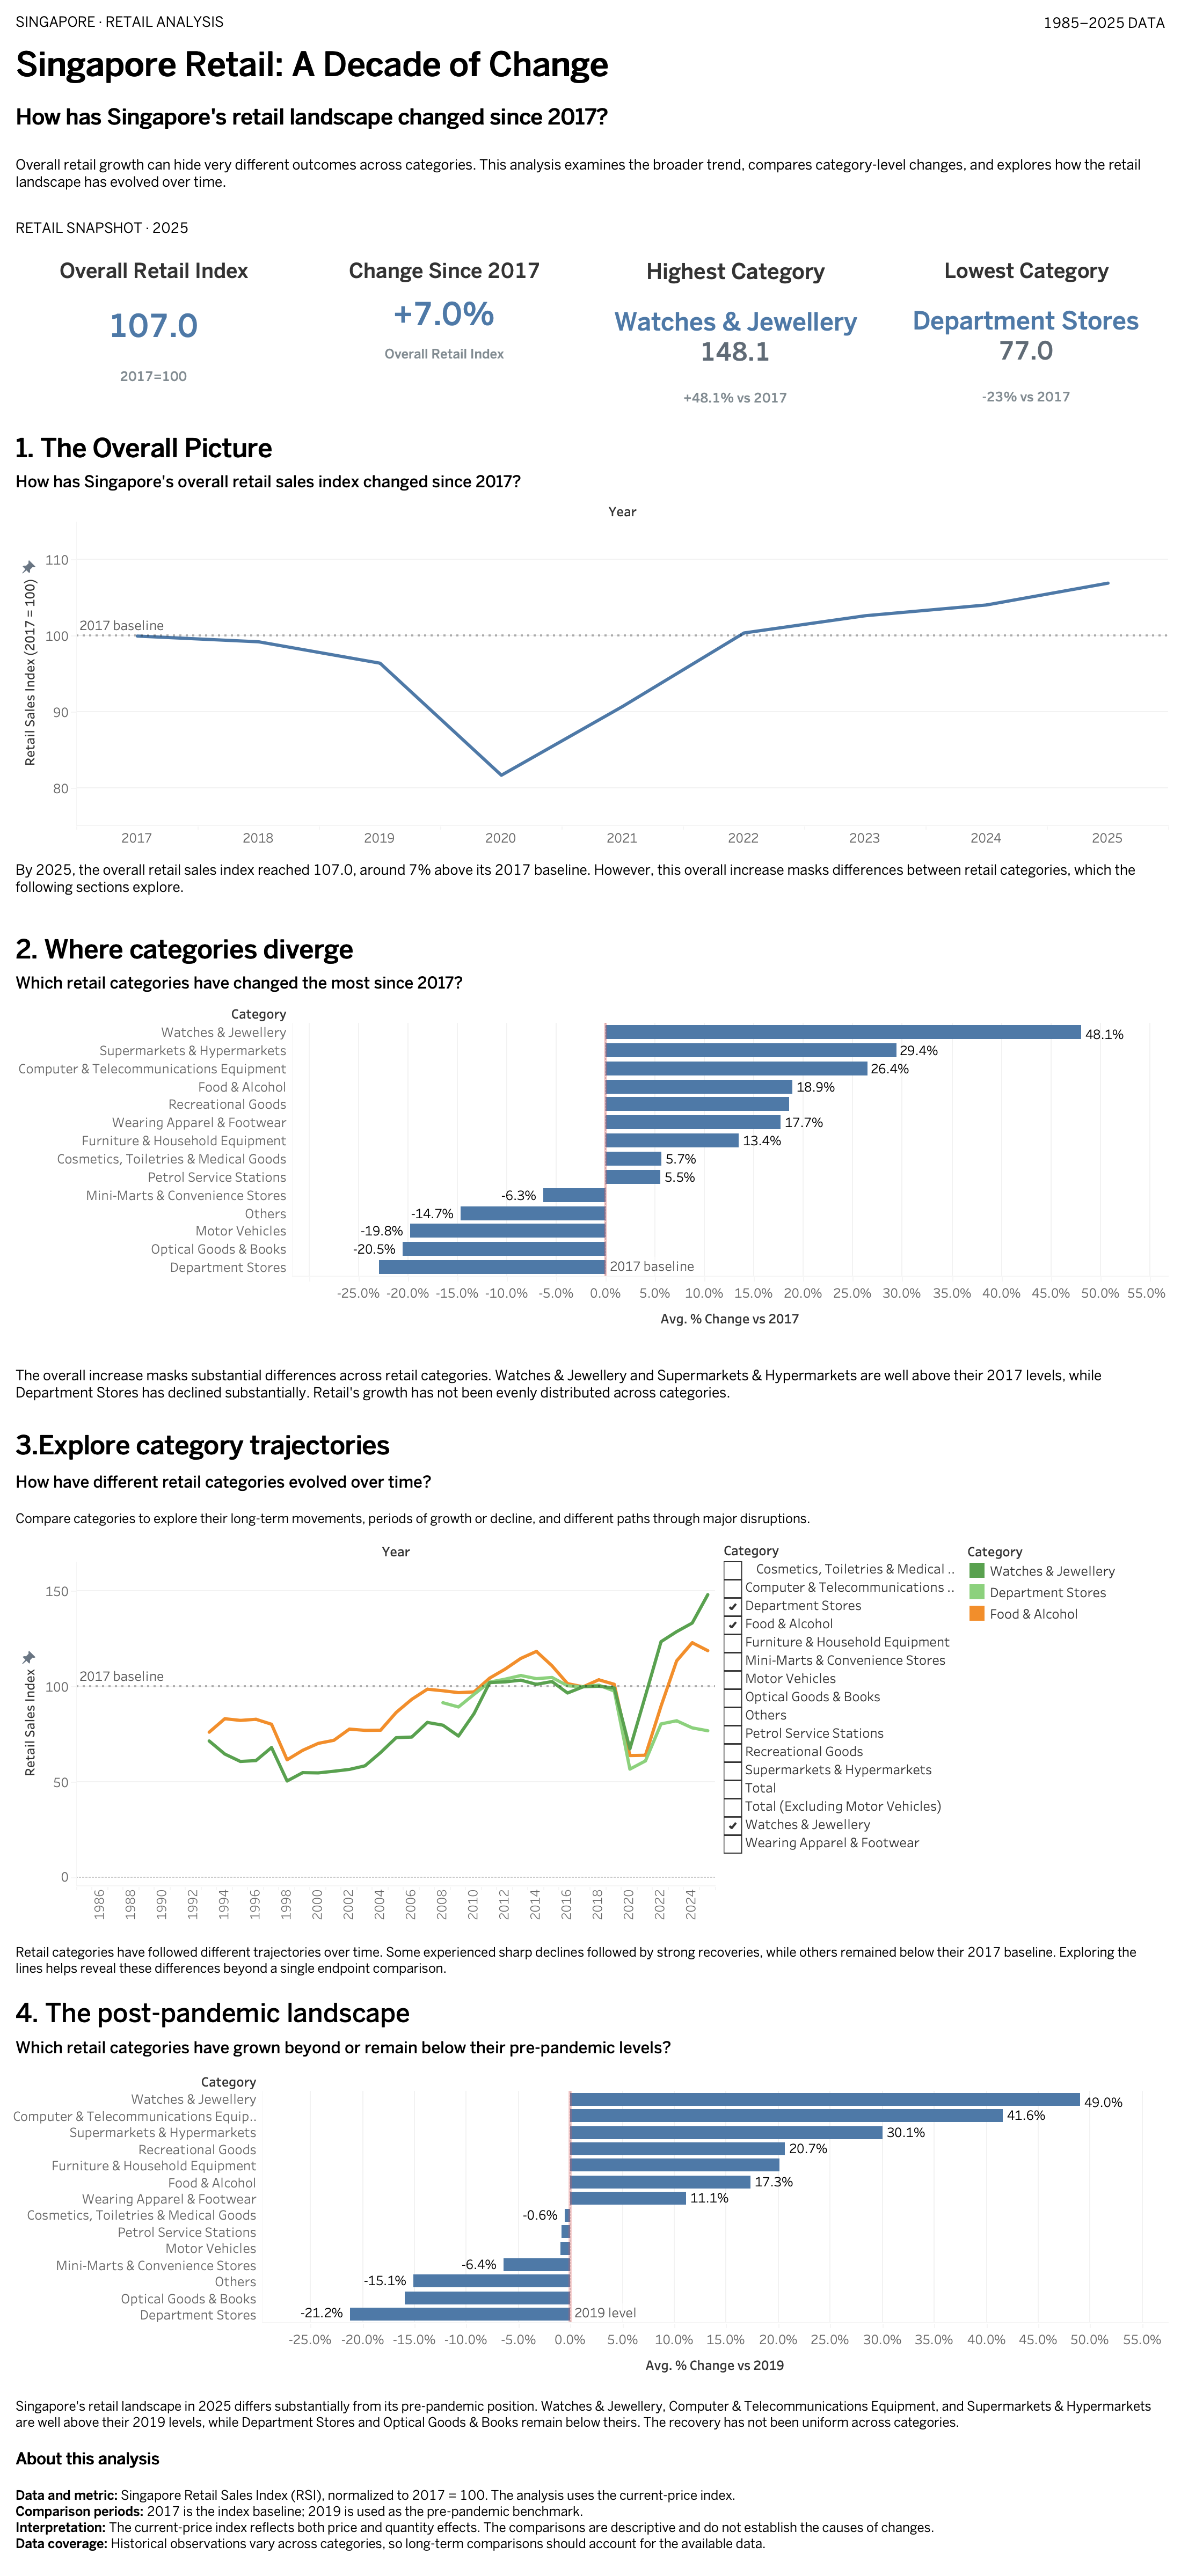

What the dashboard file says about the page in this screenshot:
{"tool":"tableau","page":{"name":"Singapore Retail Dashboard","canvas":[1100,2400],"ordinal":0},"visuals":[{"type":"text","box":[8,8,542,25]},{"type":"text","box":[550,8,542,27.1]},{"type":"text","box":[8,35.1,1084,52.2]},{"type":"text","box":[8,87.2,1084,43.9]},{"type":"text","box":[8,131.1,1084,61.5]},{"type":"text","box":[8,192.6,1084,38.6]},{"type":"worksheet","title":"KPI 01","mark":"Text","box":[8,231,271,168]},{"type":"worksheet","title":"KPI 02","mark":"Text","box":[279,231,271,168]},{"type":"worksheet","title":"KPI 03","mark":"Text","box":[550,231,271,168]},{"type":"worksheet","title":"KPI 04","mark":"Text","box":[821,231,271,168]},{"type":"text","box":[8,399,1084,37]},{"type":"text","box":[8,436,1084,26]},{"type":"worksheet","title":"Overall Trend","mark":"Line","rows":["Pivot Field Values"],"cols":["Pivot Field Names"],"box":[8,462,1084,332]},{"type":"text","box":[8,794,1084,50]},{"type":"text","box":[8,866,1084,37]},{"type":"text","box":[8,903,1084,26]},{"type":"worksheet","title":"Category Ranking","mark":"Automatic","rows":["DataSeries"],"cols":["Calculation_1079636417040388"],"box":[8,929,1084,318.9]},{"type":"text","box":[8,1247.9,1084,83]},{"type":"text","box":[8,1331,1084,32]},{"type":"text","box":[8,1363,1084,36]},{"type":"text","box":[8,1399,1084,32]},{"type":"worksheet","title":"Category Trend","mark":"Line","rows":["Pivot Field Values"],"cols":["Pivot Field Names"],"box":[8,1431,662,363]},{"type":"filter","title":"Category Trend","param":"[federated.0r4kuln01cfkuh13vmlmg15cwmw7].[none:DataSeries:nk]","box":[670,1431,226,363]},{"type":"legend","title":"Category Trend","param":"[federated.0r4kuln01cfkuh13vmlmg15cwmw7].[none:DataSeries:nk]","box":[896,1431,164,363]},{"type":"text","box":[8,1794,1084,66]},{"type":"text","box":[8,1860,1084,32]},{"type":"text","box":[8,1892,1084,32]},{"type":"worksheet","title":"Post-Pandemic Change","mark":"Automatic","rows":["DataSeries"],"cols":["Calculation_4658546808360960"],"box":[8,1924,1084,299]},{"type":"text","box":[8,2223,1084,54]},{"type":"text","box":[8,2277,1084,109]}]}

Visuals, with their boxes in screenshot pixels (x1, y1, x2, y2), scaled from the page's 1100x2400 canvas onto the 1181x2576 screenshot:
text: [9, 9, 590, 35]
text: [590, 9, 1172, 38]
text: [9, 38, 1172, 94]
text: [9, 93, 1172, 141]
text: [9, 141, 1172, 207]
text: [9, 207, 1172, 248]
"KPI 01" worksheet (Text marks): [9, 248, 300, 428]
"KPI 02" worksheet (Text marks): [300, 248, 590, 428]
"KPI 03" worksheet (Text marks): [590, 248, 881, 428]
"KPI 04" worksheet (Text marks): [881, 248, 1172, 428]
text: [9, 428, 1172, 468]
text: [9, 468, 1172, 496]
"Overall Trend" worksheet (Line marks): [9, 496, 1172, 852]
text: [9, 852, 1172, 906]
text: [9, 930, 1172, 969]
text: [9, 969, 1172, 997]
"Category Ranking" worksheet: [9, 997, 1172, 1340]
text: [9, 1340, 1172, 1429]
text: [9, 1429, 1172, 1463]
text: [9, 1463, 1172, 1502]
text: [9, 1502, 1172, 1536]
"Category Trend" worksheet (Line marks): [9, 1536, 719, 1926]
"Category Trend" filter: [719, 1536, 962, 1926]
"Category Trend" legend: [962, 1536, 1138, 1926]
text: [9, 1926, 1172, 1996]
text: [9, 1996, 1172, 2031]
text: [9, 2031, 1172, 2065]
"Post-Pandemic Change" worksheet: [9, 2065, 1172, 2386]
text: [9, 2386, 1172, 2444]
text: [9, 2444, 1172, 2561]
